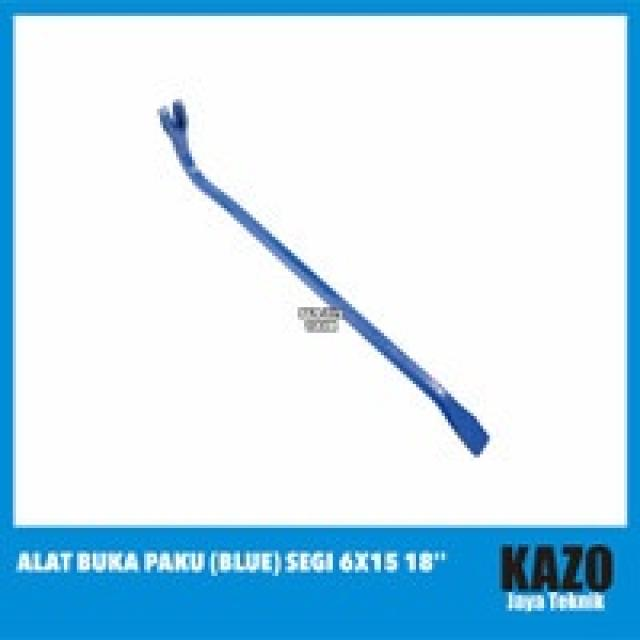Linggis: (163, 94, 489, 458)
